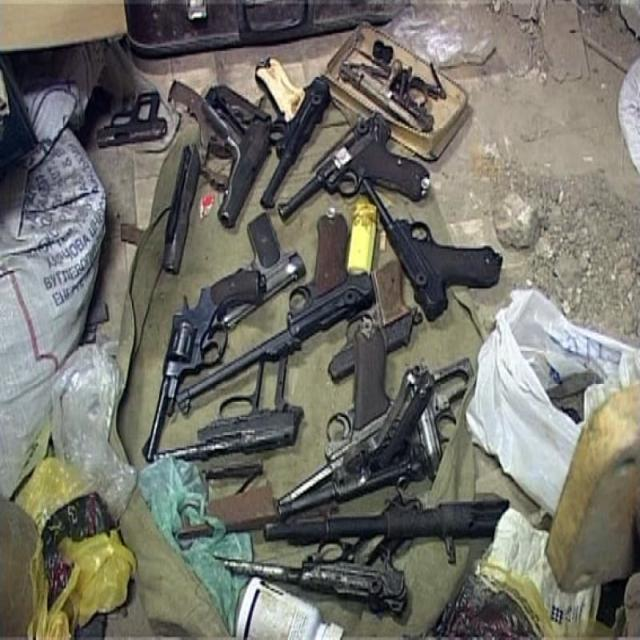pistol: (175, 214, 354, 414), (142, 271, 262, 464), (274, 324, 385, 510), (362, 178, 503, 317), (279, 116, 432, 222), (330, 258, 423, 378), (261, 53, 330, 208), (200, 93, 271, 231), (224, 214, 306, 329), (95, 91, 168, 149)
